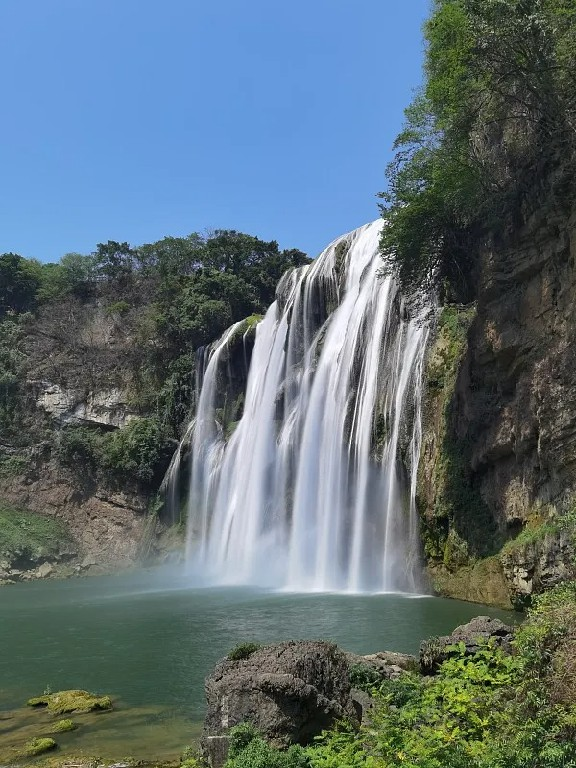Huangguoshu: (164, 219, 426, 596)
